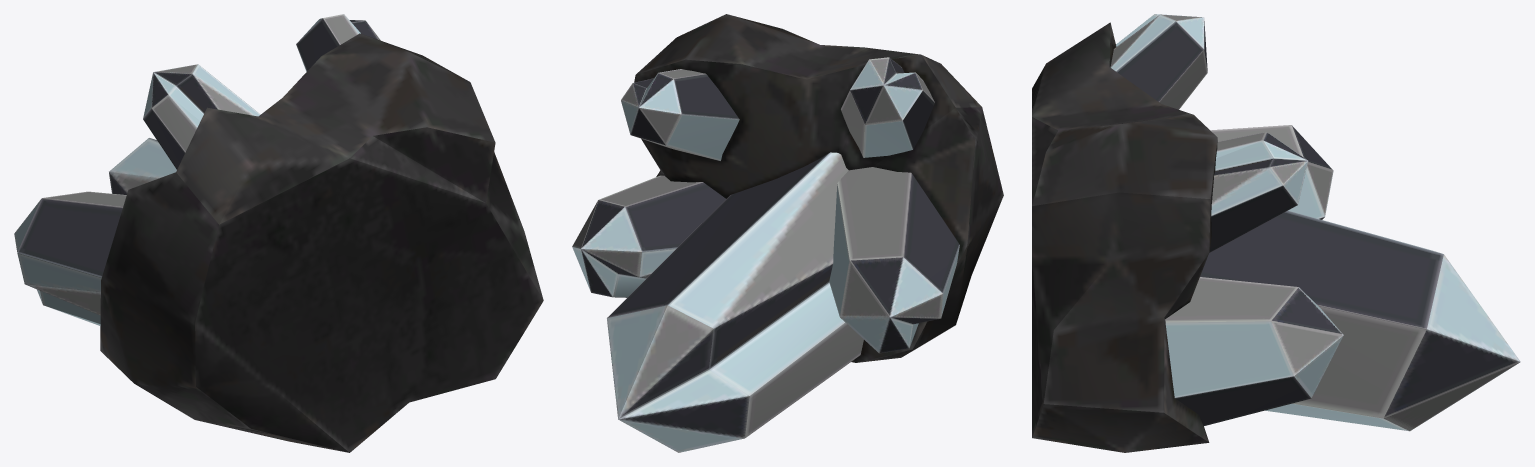
File: Diamond.obj
3 renders of one model, left to right at view 1: azimuth 30°, elevation 25°; view 2: azimuth 150°, elevation 25°; view 3: azimuth 270°, elevation 25°, orthographic. The views are drawn at different scales.
Visible parts, largest first — view 1: Body__Mt_Body, Body__Mt_Ore; view 2: Body__Mt_Ore, Body__Mt_Body; view 3: Body__Mt_Ore, Body__Mt_Body.
Boxes of the visible parts, box(x1,y1,x2,y2) form: Body__Mt_Body: box(100, 33, 543, 452); Body__Mt_Ore: box(14, 14, 380, 325); Body__Mt_Ore: box(572, 57, 959, 452); Body__Mt_Body: box(634, 14, 1003, 362); Body__Mt_Ore: box(1110, 14, 1520, 431); Body__Mt_Body: box(1032, 22, 1217, 452).
Size of the model in its own units: 0.614 by 0.5308 by 0.6426.
Materials: 2 (2 with a texture image).
